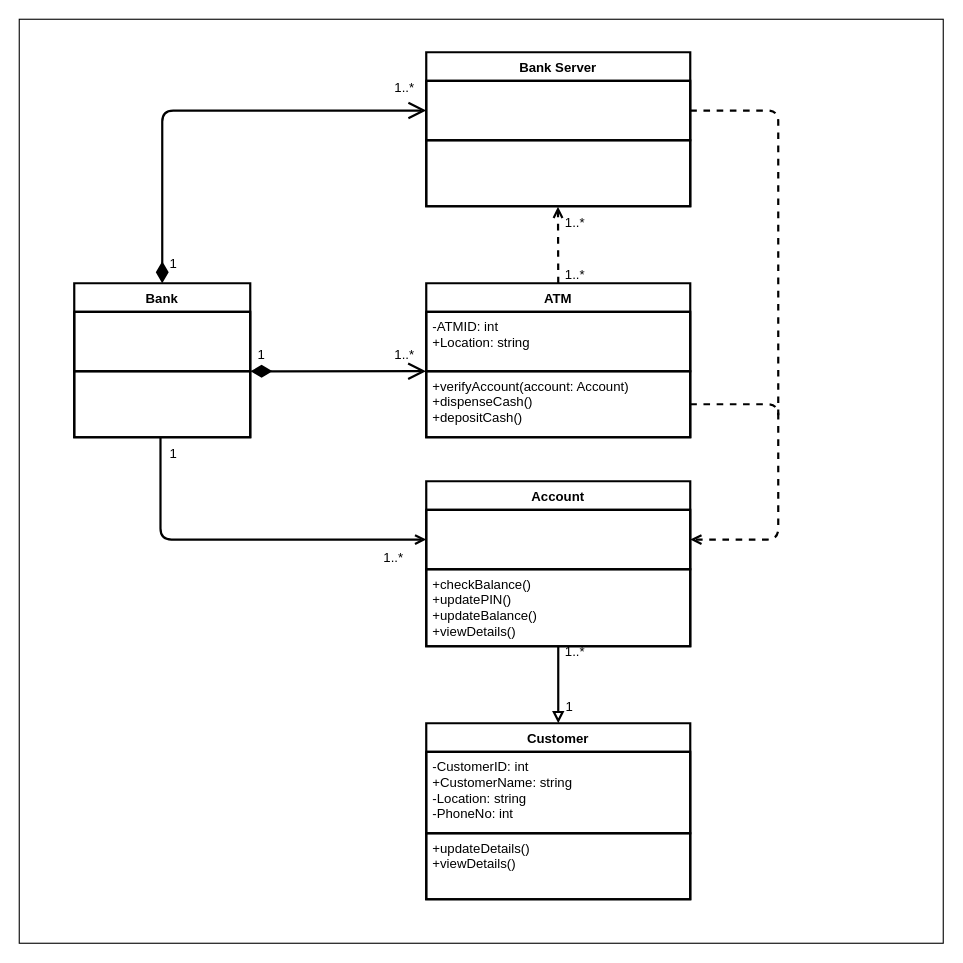
Image size: 963x963. Some labels were removed from this diagram. The shapes that lost their labels are listed below. From the top down, each one's centre as x and y in pixels, then its label:
At point (558, 110): "-BankServerID: int -Location: string".
At point (558, 173): "+giveDetails() +verifyDetails() +updateDetails()".
At point (162, 341): "-BankID: int +BankName: string +Location: string".
At point (162, 404): "+getBankDetails() +addATM() +removeATM()".
At point (558, 539): "-AccountNo: int -Balance: double -PIN: int".
